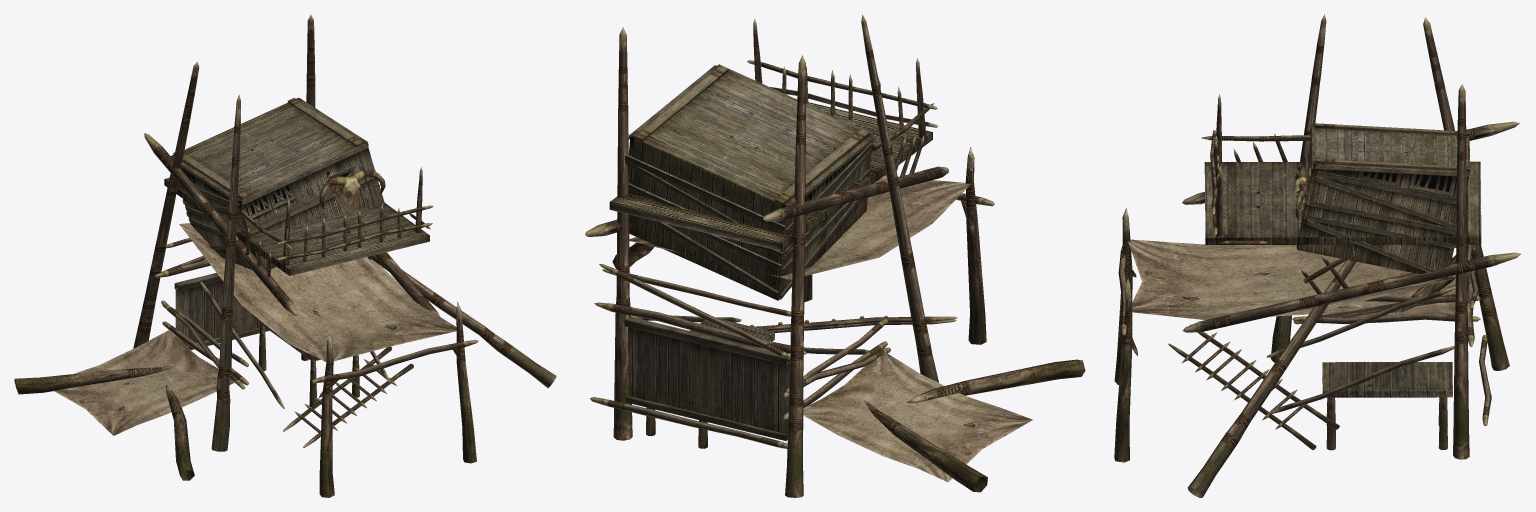
File: gaint_build_a_01_d.fbx
3 views of the same model, side by side, from view 1: azimuth 30°, elevation 25°; view 2: azimuth 150°, elevation 25°; view 3: azimuth 270°, elevation 25° (orthographic). The views are drawn at different scales.
Parts seen in each view (by area): view 1: objObject03, objObject01, objObject02, objobjObject02; view 2: objObject03, objObject01, objObject02; view 3: objObject01, objObject03, objObject02, objobjObject02.
Part boxes in pixels (bbox=[...]): objObject03: bbox=[54, 178, 456, 435]; objObject01: bbox=[14, 14, 556, 497]; objObject02: bbox=[170, 98, 385, 270]; objobjObject02: bbox=[319, 169, 385, 208]; objObject03: bbox=[609, 102, 1032, 482]; objObject01: bbox=[585, 14, 1085, 497]; objObject02: bbox=[624, 64, 874, 300]; objObject01: bbox=[1114, 14, 1520, 497]; objObject03: bbox=[1128, 161, 1481, 397]; objObject02: bbox=[1296, 123, 1470, 279]; objobjObject02: bbox=[1294, 166, 1307, 220].
Size of the model in its own units: 24.26 by 18.43 by 18.29.
